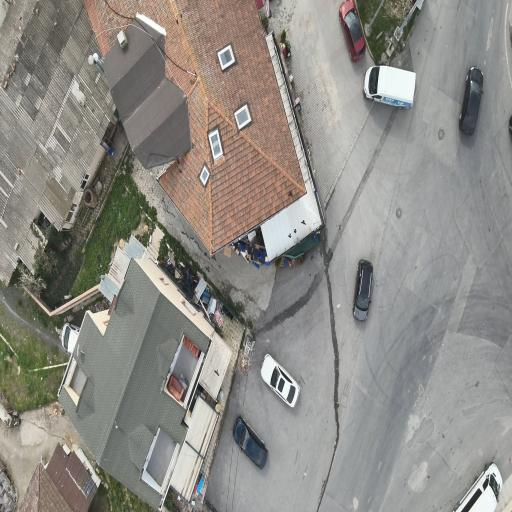car: (453, 464, 502, 512), (363, 65, 415, 109), (261, 355, 299, 407), (233, 417, 267, 468), (460, 67, 483, 135), (340, 0, 365, 61), (353, 260, 373, 320), (61, 323, 79, 353), (509, 117, 511, 134)
